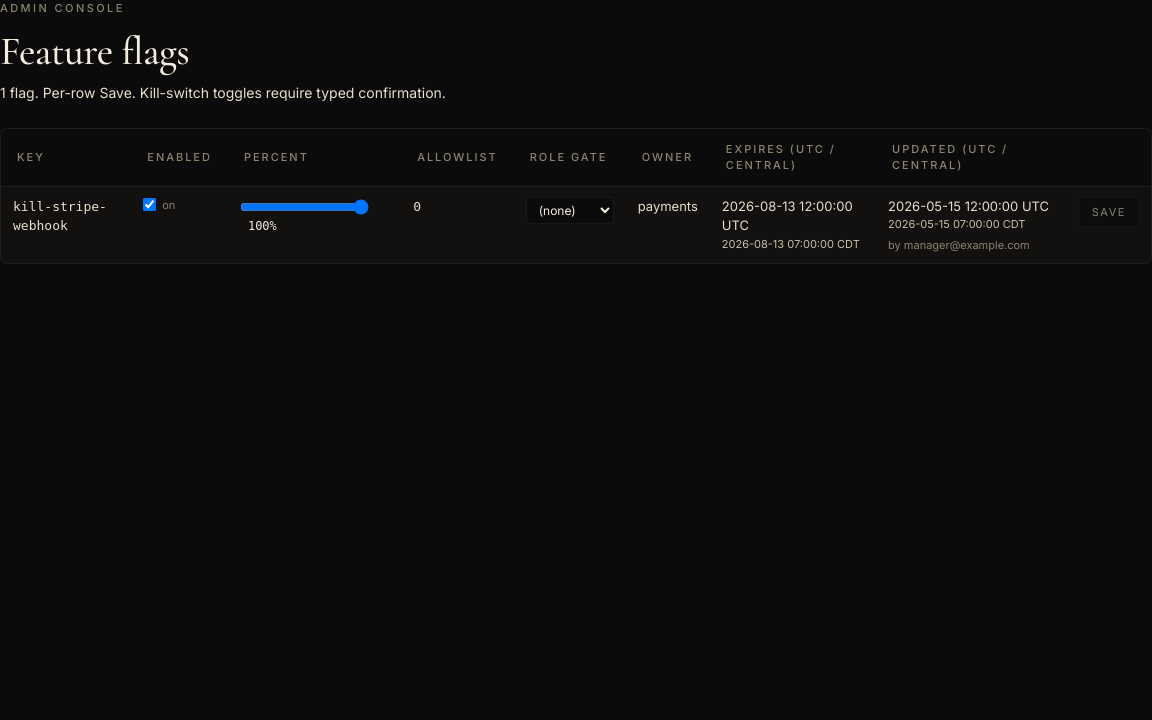
Test case: flags page — kill-switch typed-confirmation › typed phrase "disable" is required when toggling enabled true -> false
The width and height of the screenshot is (1152, 720).
Click the checkbox with test id "flag-enabled-kill-stripe-webhook" at (150, 205), box 143,198 -> 156,211
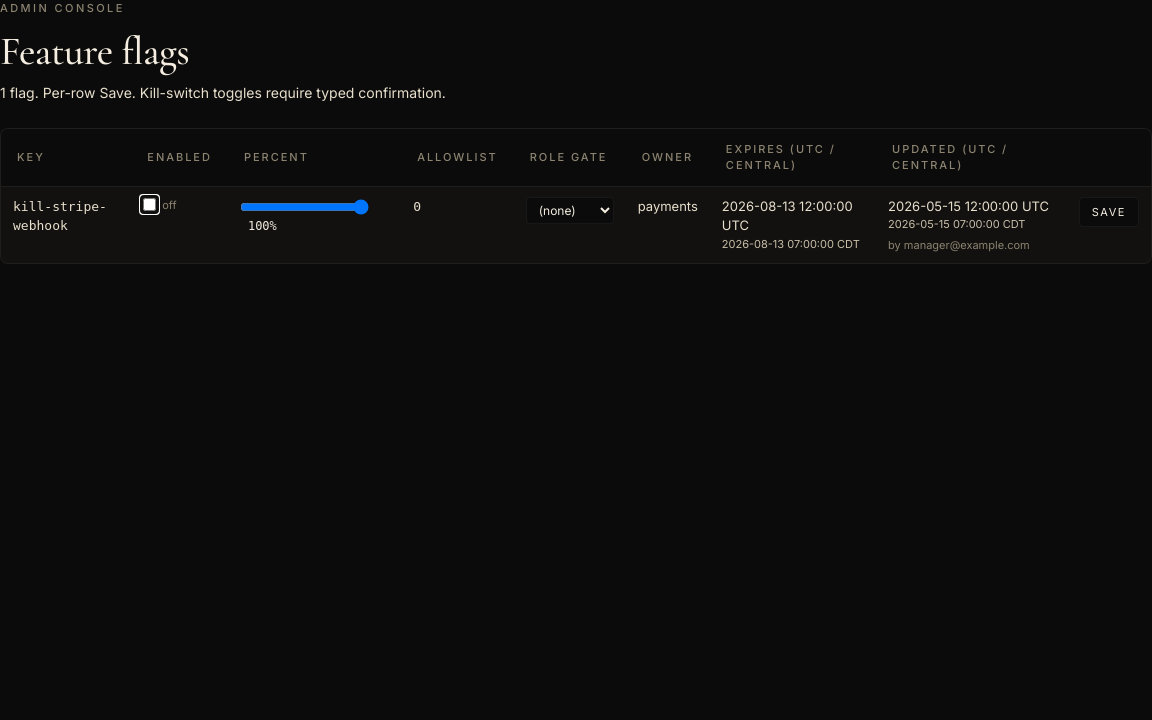
Click the button with test id "flag-save-kill-stripe-webhook" at (1109, 212), box 1079,197 -> 1139,227
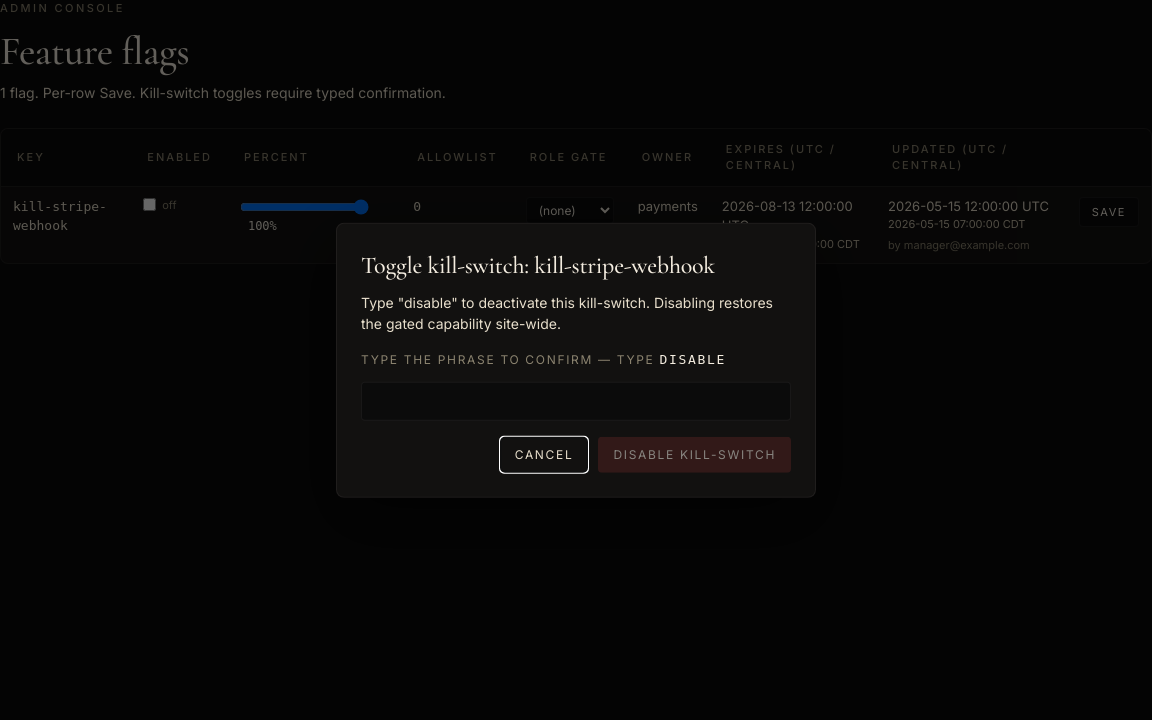
Now the text with test id "typed-confirmation-phrase" reads "disable", box 660,352 -> 726,367
